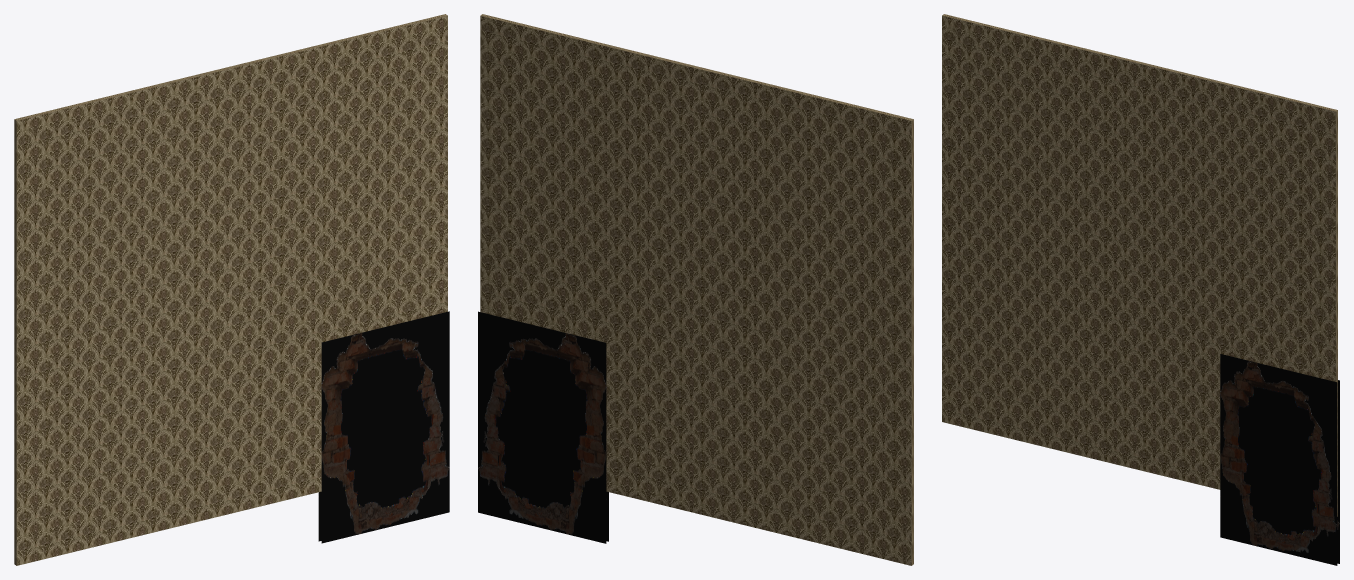
The model's file is castle_inside_scene_lvl_1_v2_destroyed_wall.fbx.
The picture shows the model from 3 angles, left to right: view 1: azimuth 30°, elevation 25°; view 2: azimuth 150°, elevation 25°; view 3: azimuth 330°, elevation 25°; orthographic projection. The views are drawn at different scales.
Parts seen in each view (by area): view 1: Cube.033, Plane.005; view 2: Cube.033, Plane.004; view 3: Cube.033, Plane.005.
Boxes of the visible parts, x1=… form: Cube.033: x1=14, y1=14, x2=447, y2=565; Plane.005: x1=321, y1=311, x2=449, y2=543; Cube.033: x1=480, y1=14, x2=913, y2=565; Plane.004: x1=478, y1=311, x2=606, y2=543; Cube.033: x1=942, y1=14, x2=1337, y2=516; Plane.005: x1=1220, y1=354, x2=1337, y2=565.
Size of the model in its own units: 382 by 419 by 4.28.
